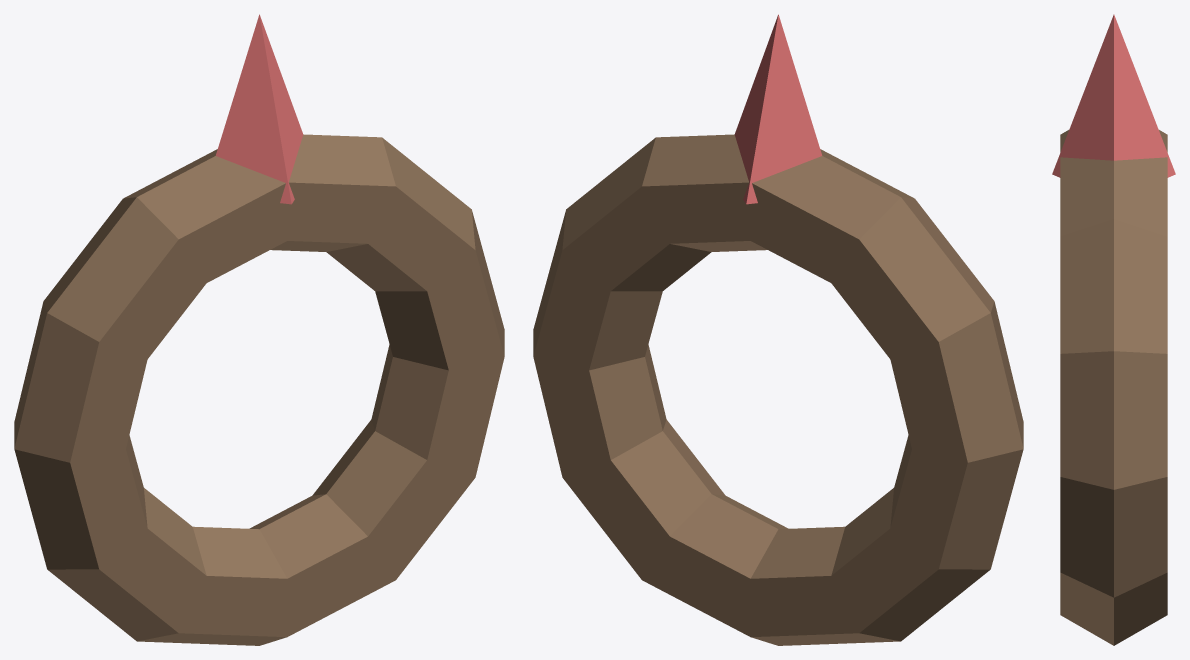
File: EmblemBerserker.fbx
3 views of the same model, side by side, from view 1: azimuth 30°, elevation 25°; view 2: azimuth 150°, elevation 25°; view 3: azimuth 270°, elevation 25° (orthographic). The views are drawn at different scales.
Parts seen in each view (by area): view 1: fam_wood_dark, fam_ruby_emit; view 2: fam_wood_dark, fam_ruby_emit; view 3: fam_wood_dark, fam_ruby_emit.
Part boxes in pixels (x1=…): fam_wood_dark: x1=14, y1=134, x2=504, y2=645; fam_ruby_emit: x1=215, y1=14, x2=303, y2=204; fam_wood_dark: x1=533, y1=134, x2=1023, y2=645; fam_ruby_emit: x1=734, y1=14, x2=822, y2=204; fam_wood_dark: x1=1060, y1=130, x2=1167, y2=645; fam_ruby_emit: x1=1052, y1=14, x2=1175, y2=177.
Bounding box in the file's own units: 0.861 × 1.06 × 0.196.
